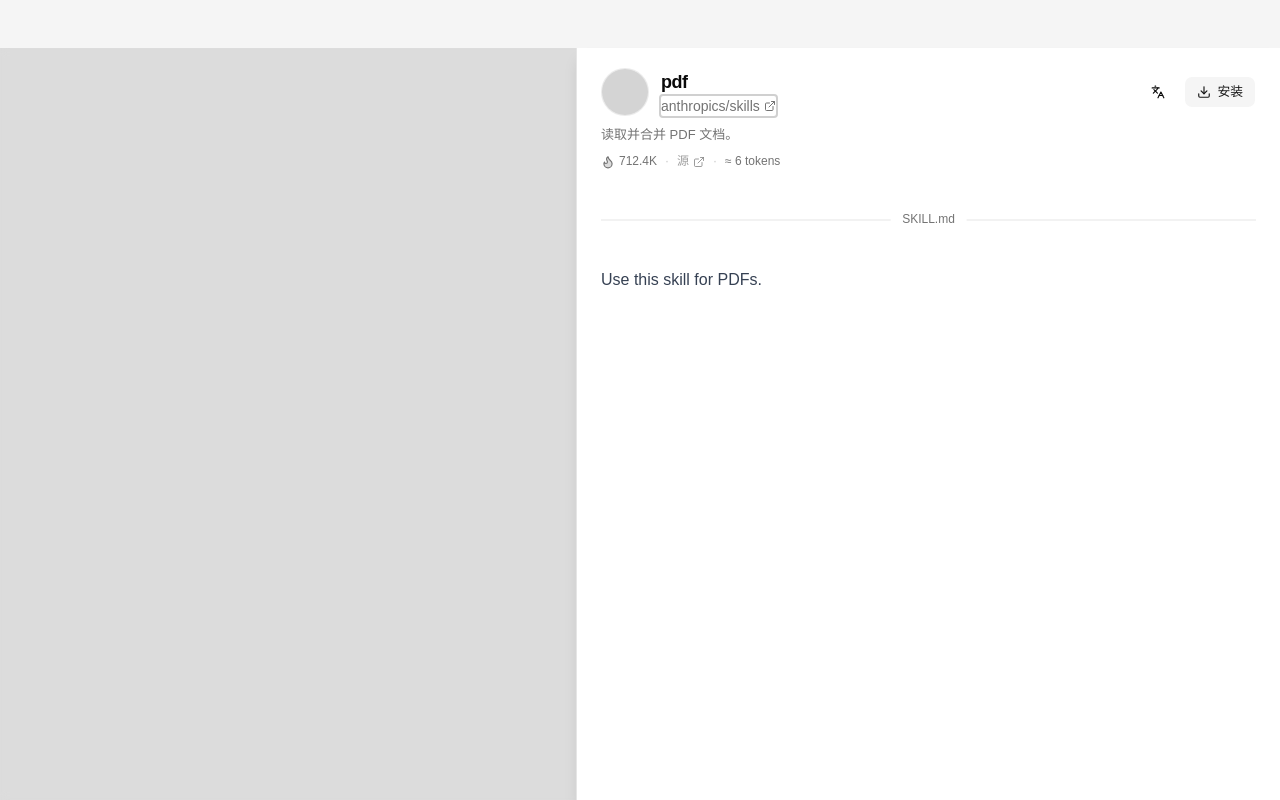
it: SkillDetailPanel › flips the header description to the original through the unified toggle
expect the text "读取并合并 PDF 文档。" is shown: met, box [601,127,738,142]
Click the button named "原文" at (1158, 92), box [1144,78,1172,106]
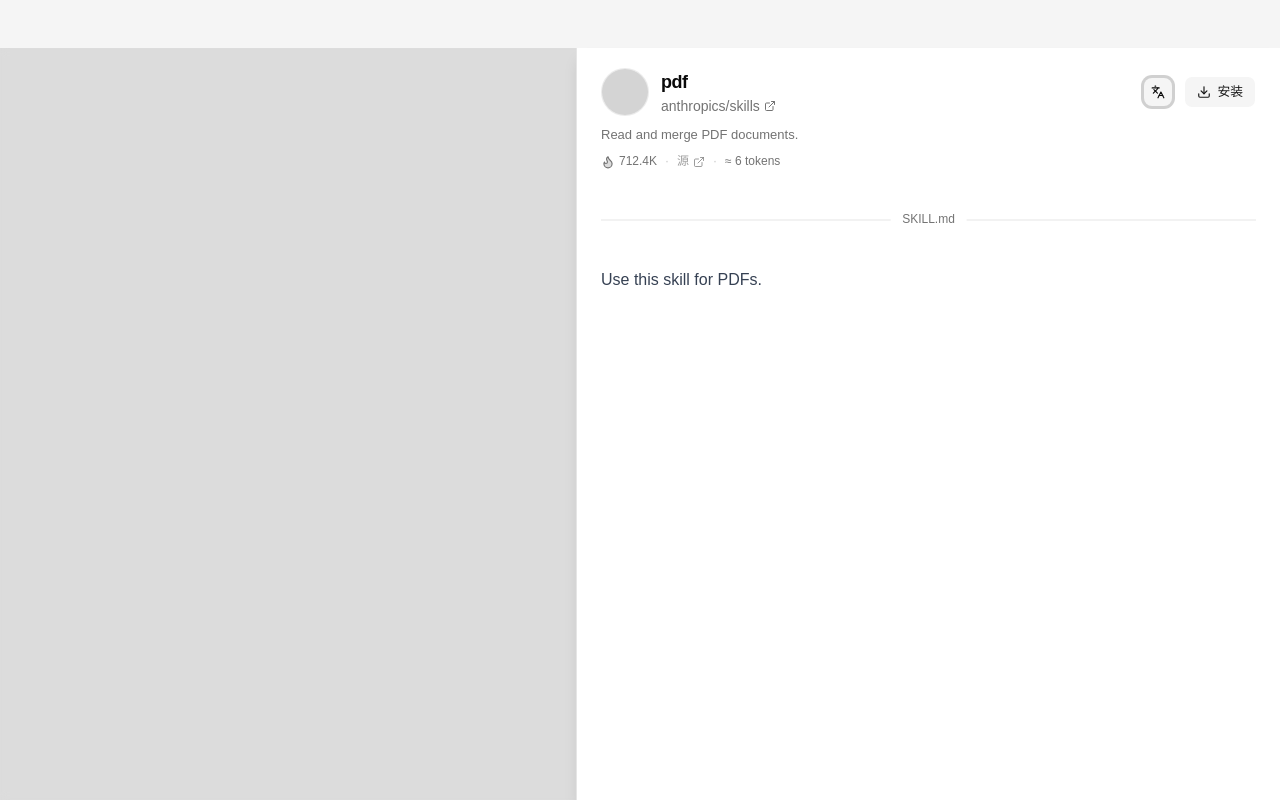
expect the text "Read and merge PDF documents." is shown: met, box [601,127,798,142]
expect the text "读取并合并 PDF 文档。" is gone: met
Click the button named "原文" at (1158, 92), box [1144,78,1172,106]
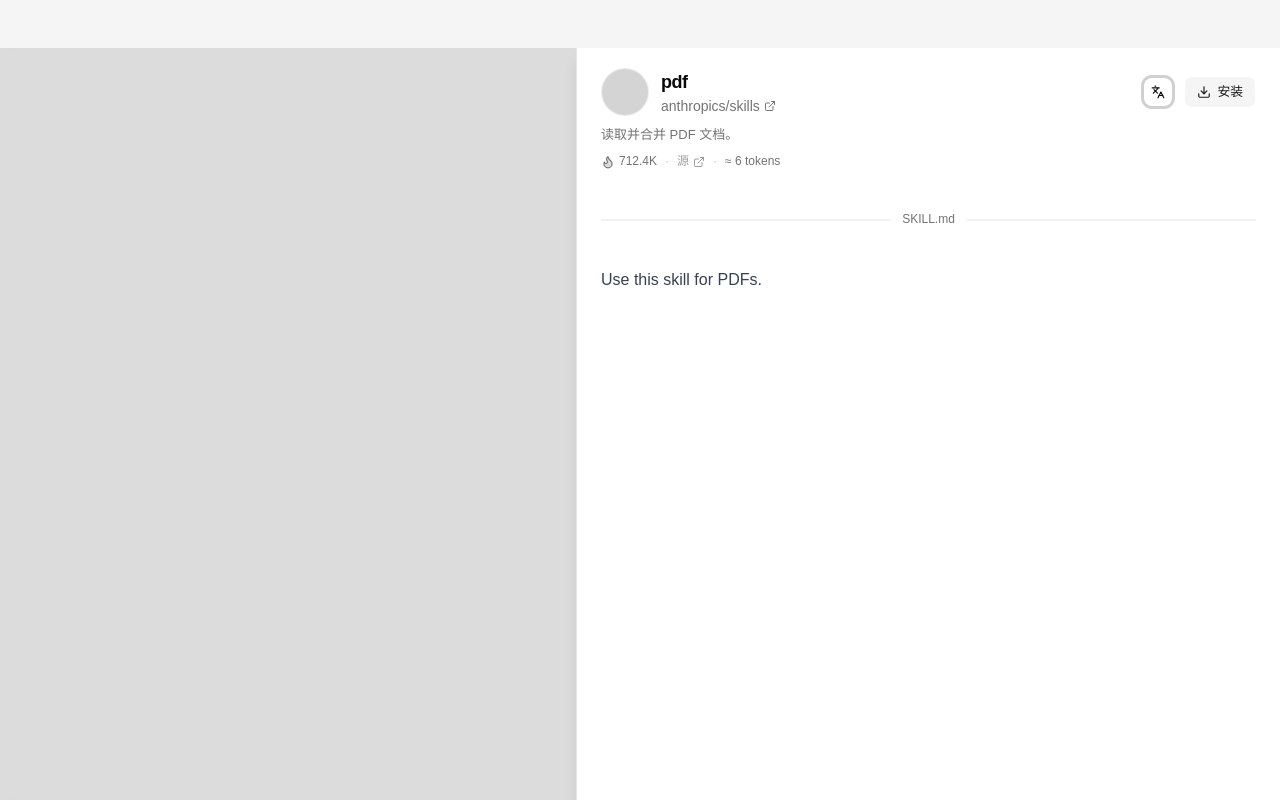
expect the text "读取并合并 PDF 文档。" is shown: met, box [601,127,738,142]
